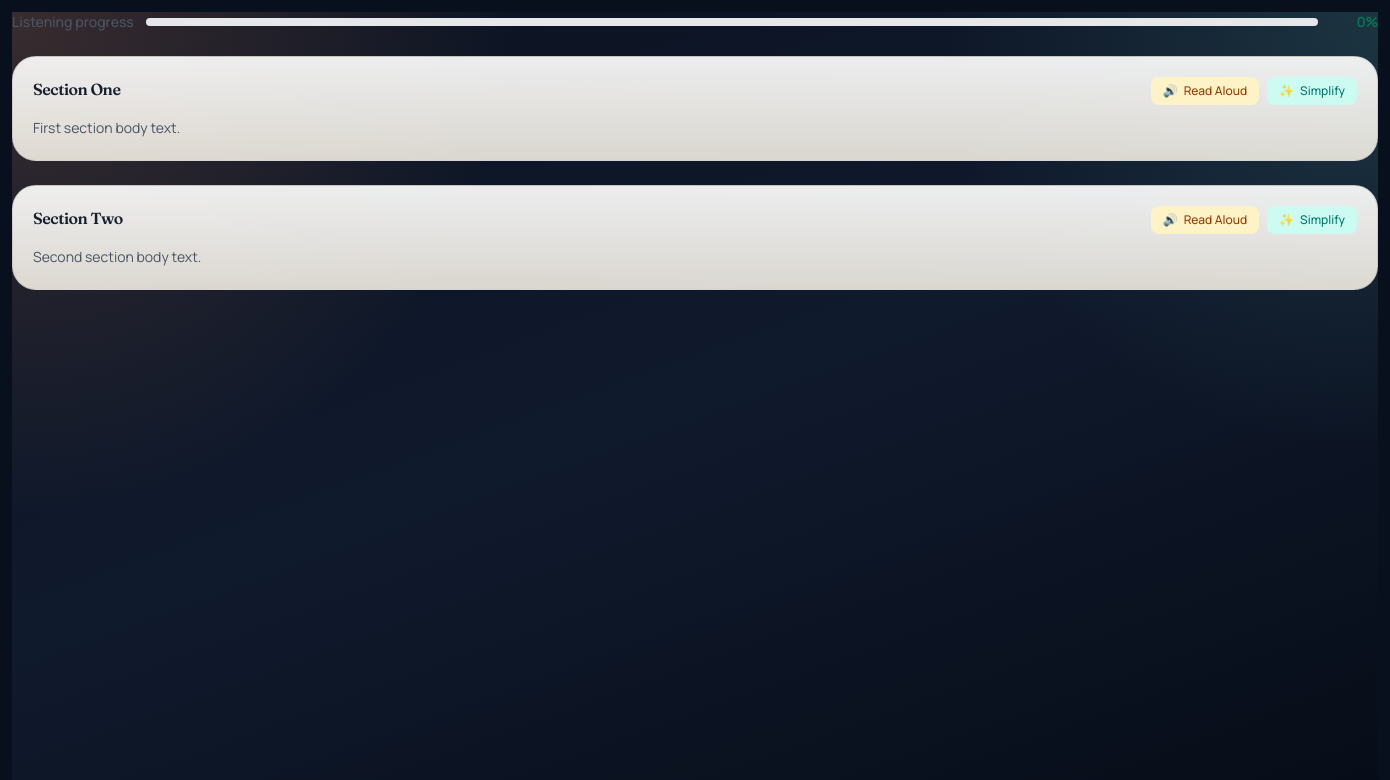
it: SectionLearningTools — Read Aloud › shows Stop button while a section is playing
Step 1. Click the button "🔊 Read Aloud" in the row of "Section One" → (1205, 91), box x1=1151 y1=77 x2=1259 y2=105
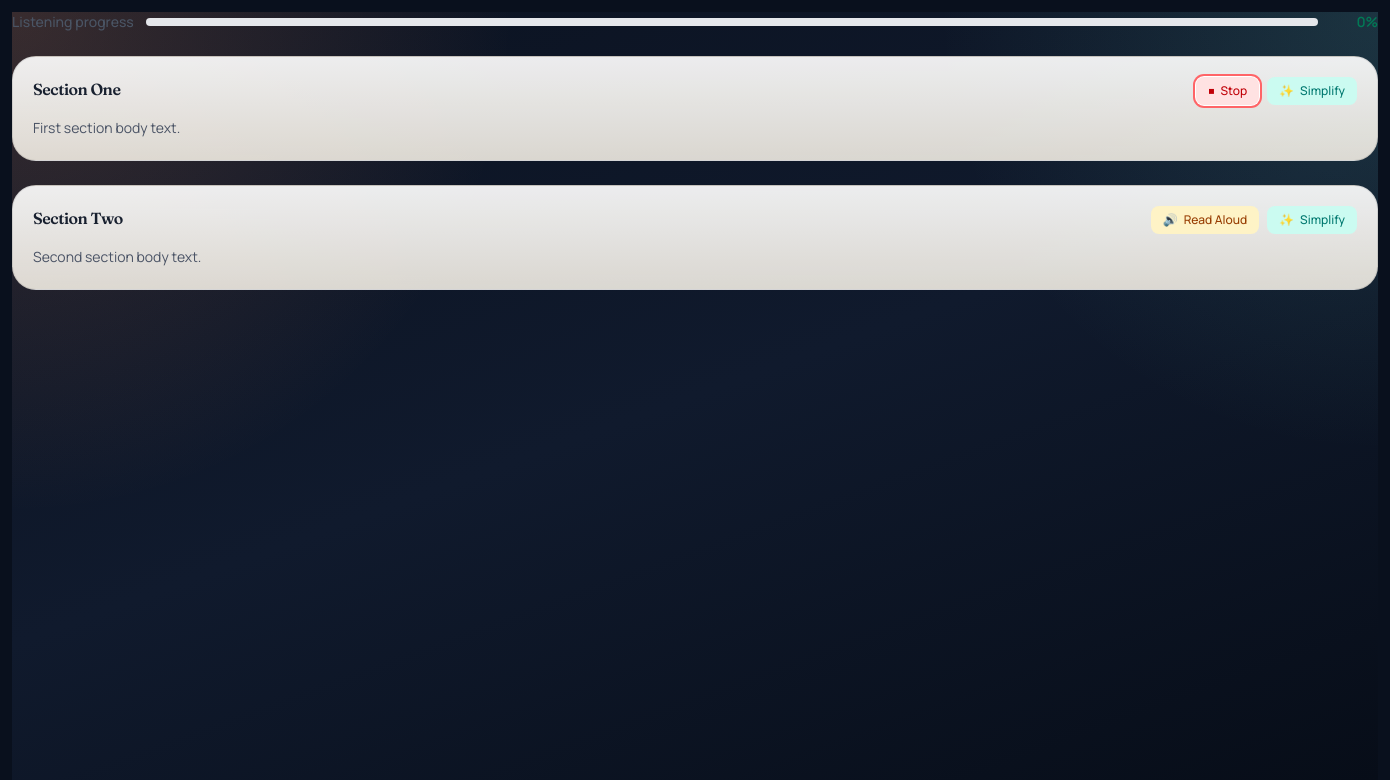
Check: the button with aria-label "Stop reading" is shown, box x1=1196 y1=77 x2=1259 y2=105
